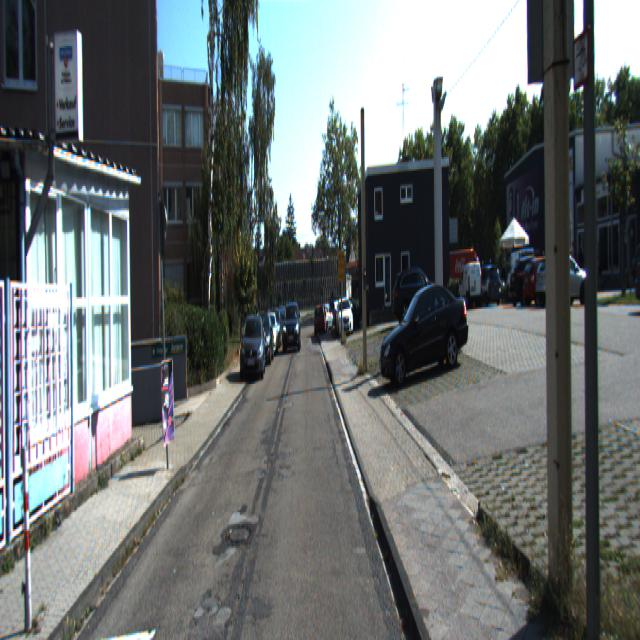Car: (376, 272, 476, 388), (536, 250, 594, 308), (394, 270, 444, 334), (521, 253, 576, 307), (509, 257, 564, 311), (238, 310, 266, 381), (476, 264, 503, 308), (458, 256, 482, 305), (282, 302, 302, 353), (630, 232, 640, 312), (336, 294, 354, 336)
